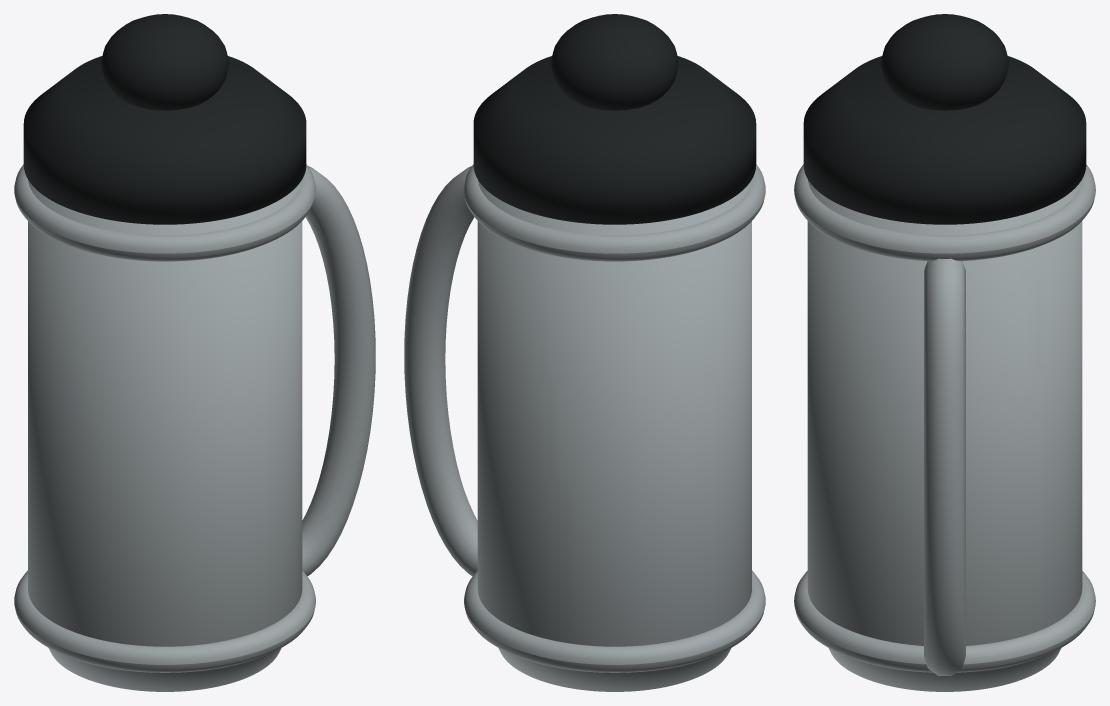
The model's file is cookware__microwave_small_metal_vessel.glb.
3 renders of one model, left to right at view 1: azimuth 30°, elevation 25°; view 2: azimuth 150°, elevation 25°; view 3: azimuth 270°, elevation 25°, orthographic.
Parts seen in each view (by area): view 1: cup, lid, plunger; view 2: cup, lid, plunger; view 3: cup, lid, plunger.
Boxes of the visible parts, <box> form: cup: <box>14,164,375,691</box>; lid: <box>23,56,306,224</box>; plunger: <box>101,14,229,110</box>; cup: <box>404,164,765,691</box>; lid: <box>473,56,756,224</box>; plunger: <box>550,14,678,110</box>; cup: <box>794,164,1095,691</box>; lid: <box>803,56,1086,224</box>; plunger: <box>881,14,1008,110</box>.
Bounding box in the file's own units: 0.0426 × 0.0748 × 0.033.
Materials: 2 (1 with a texture image).
